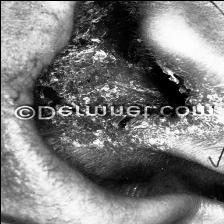Non-Cancerous Skin Condition: (34, 9, 216, 100), (56, 120, 220, 188)
